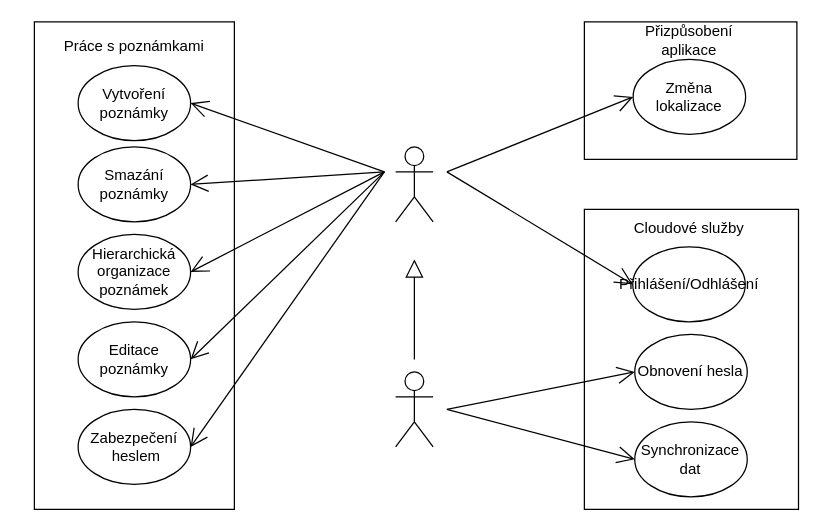
This 820x531 diagram has some shape labels left out. Here are the shapes that lost their labels. From the top down, the centre of each, then its label:
At (413,184): "Nepřihlášený uživatel".
At (413,409): "Přihlášený uživatel".
